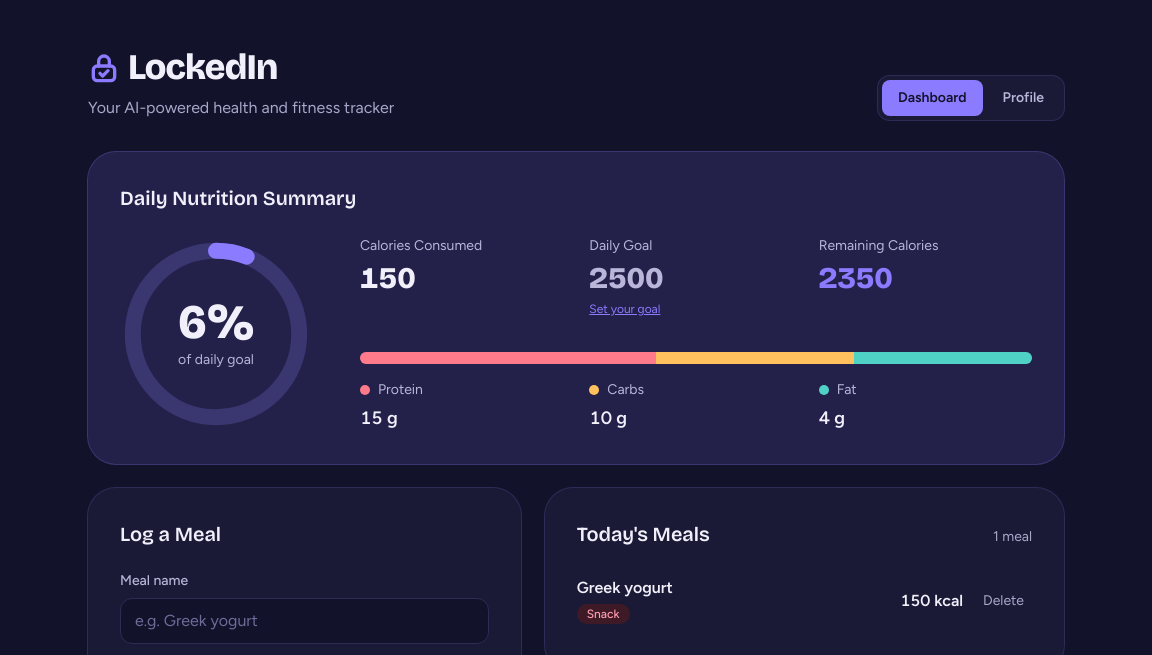
Test case: dashboard connected to the API › does not report a deleted meal as failed when the refresh after deleting fails
The image size is (1152, 655).
expect the heading "Greek yogurt" is shown: met, box [577,576,673,600]
Click the button with aria-label "Delete Greek yogurt" at (1004, 600), box [975,586,1032,614]
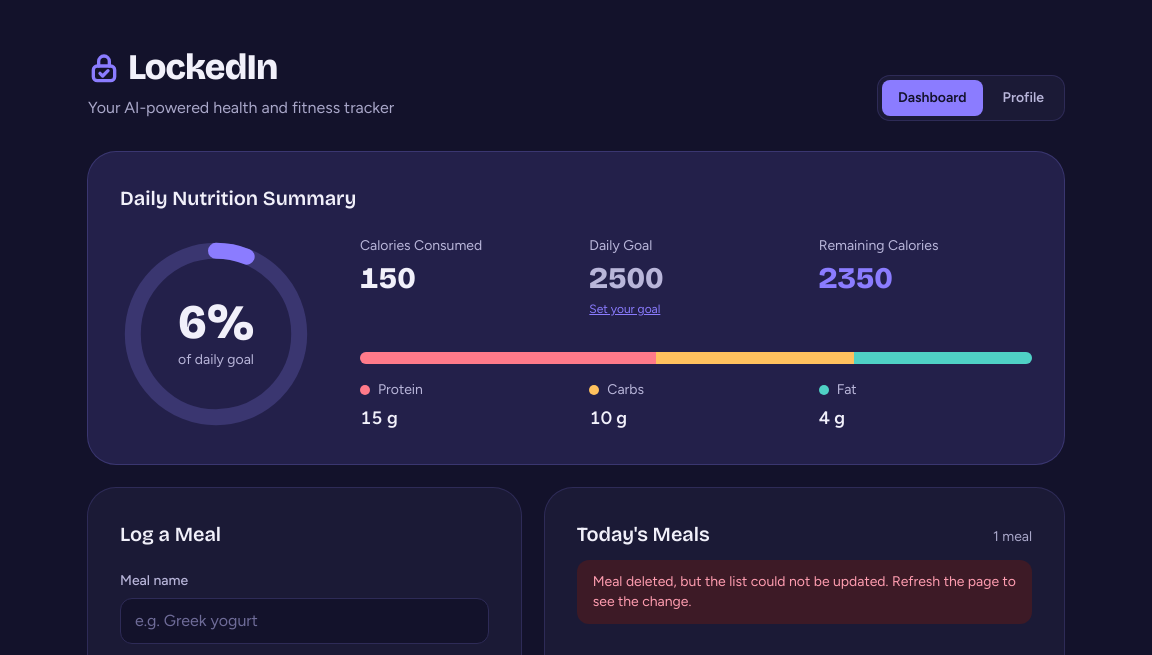
expect the message with test id "meal-list-error" shows "Meal deleted": met, box [593,573,1016,610]
